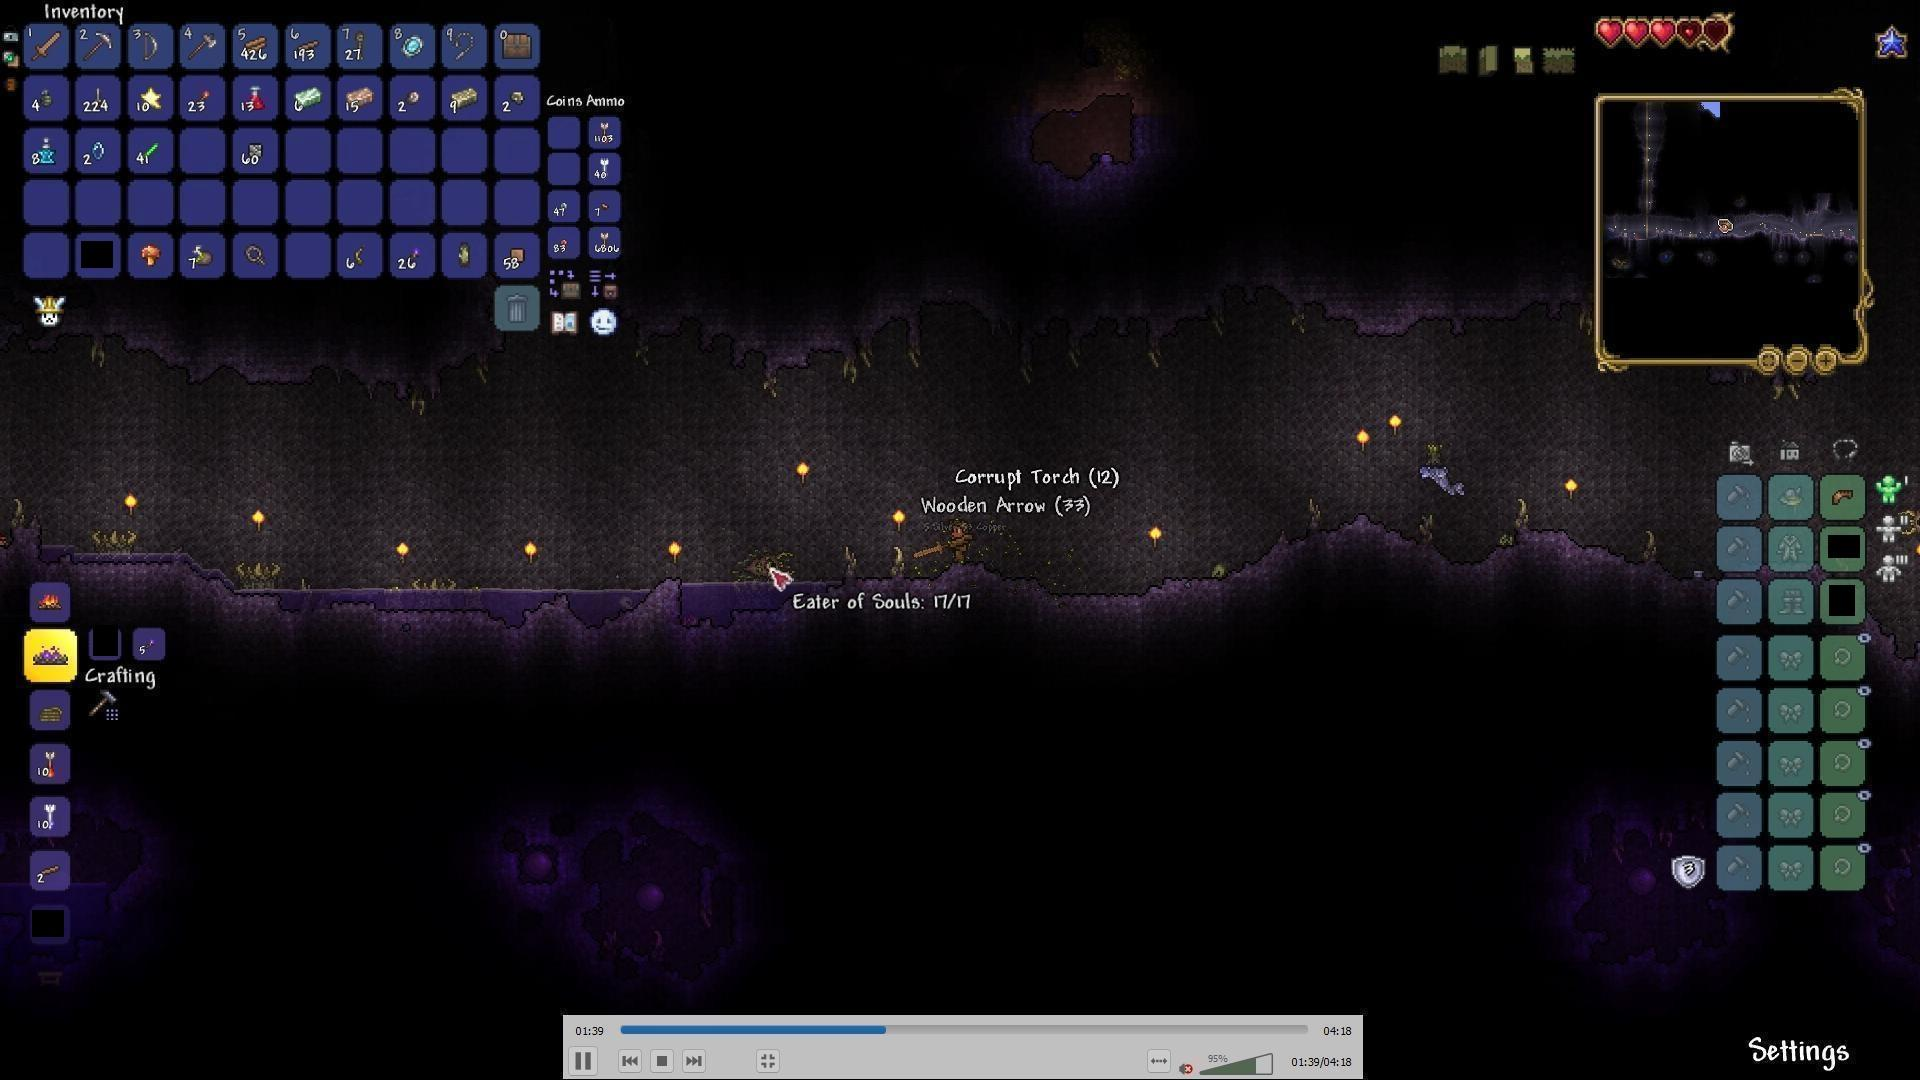helmet: (1825, 480, 1859, 512)
wood: (240, 33, 269, 53)
